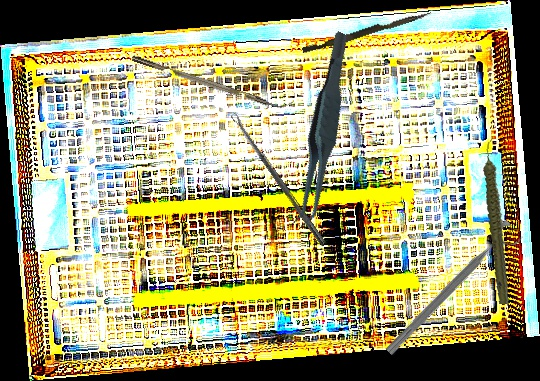Chopper: (131, 48, 294, 115)
Fixation Ring: (381, 217, 526, 367)
Handpiece: (463, 138, 533, 305)
Pusher: (301, 6, 433, 57)
Surgical Spoon: (230, 111, 328, 248)
Tissue Forceps: (257, 30, 388, 232)
